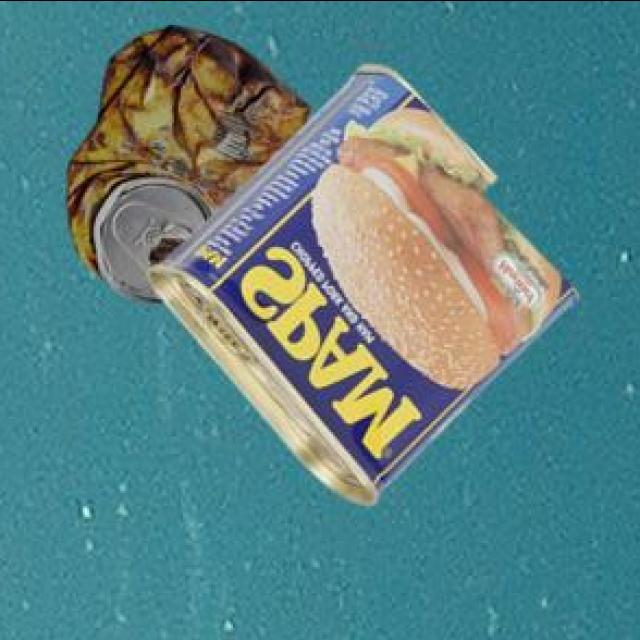logam: (145, 60, 574, 502), (62, 21, 308, 299)
